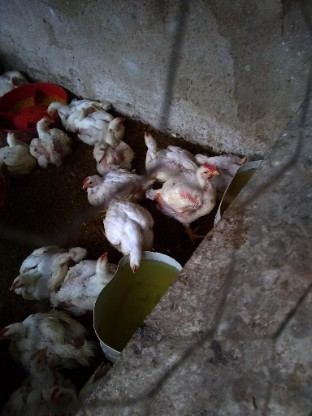Pollos: (0, 309, 89, 367), (156, 159, 221, 229), (97, 200, 154, 275), (56, 248, 123, 308), (8, 242, 70, 305), (10, 346, 58, 405), (74, 162, 138, 204), (134, 125, 189, 173), (202, 137, 259, 176), (31, 116, 75, 164), (89, 125, 130, 167), (45, 381, 94, 416), (52, 97, 98, 131), (0, 63, 38, 104), (80, 108, 124, 142), (0, 130, 32, 175)
